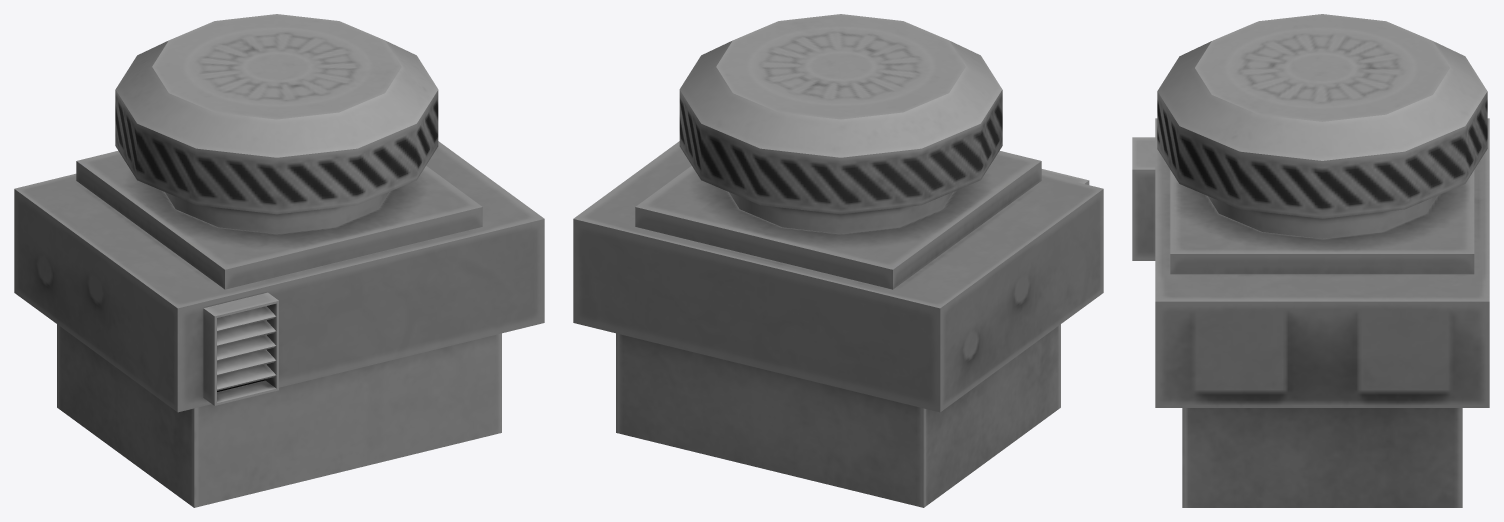
The model's file is Prfb_Ventilation_Soda1.fbx.
The picture shows the model from 3 angles, left to right: view 1: azimuth 30°, elevation 25°; view 2: azimuth 150°, elevation 25°; view 3: azimuth 270°, elevation 25°; orthographic projection. The views are drawn at different scales.
Parts seen in each view (by area): view 1: Mat_Ventilation_Darker; view 2: Mat_Ventilation_Darker; view 3: Mat_Ventilation_Darker.
Boxes of the visible parts, left/top/right/bottom form: Mat_Ventilation_Darker: left=14, top=14, right=544, bottom=507; Mat_Ventilation_Darker: left=573, top=14, right=1103, bottom=507; Mat_Ventilation_Darker: left=1132, top=14, right=1489, bottom=507.
Bounding box in the file's own units: 1.68 × 1.55 × 1.38.
Materials: 1 (1 with a texture image).
